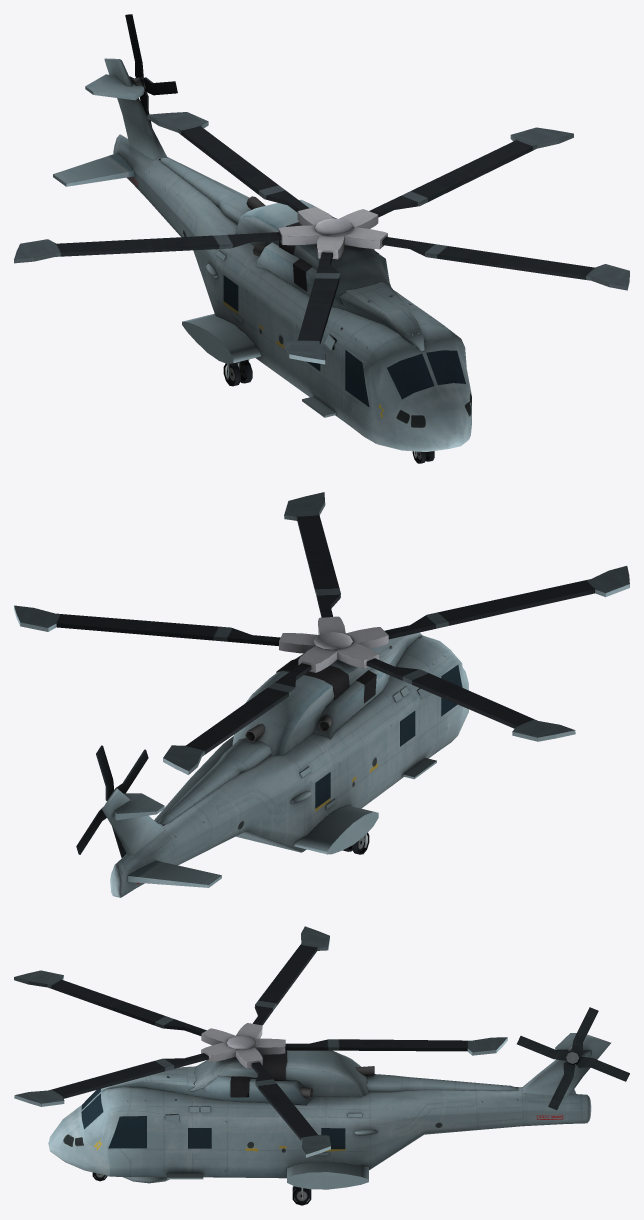
3 renders of one model, top to bottom at view 1: azimuth 30°, elevation 25°; view 2: azimuth 150°, elevation 25°; view 3: azimuth 270°, elevation 25°, orthographic. The views are drawn at different scales.
Parts seen in each view (by area): view 1: AW101, AW101_propellar, AW101_backrotor; view 2: AW101, AW101_propellar, AW101_backrotor; view 3: AW101, AW101_propellar, AW101_backrotor.
Part boxes in pixels (x1,y1,x2,y2): AW101: [53, 58, 471, 463]; AW101_propellar: [14, 112, 629, 364]; AW101_backrotor: [125, 14, 177, 126]; AW101: [102, 628, 468, 897]; AW101_propellar: [14, 492, 629, 774]; AW101_backrotor: [76, 745, 148, 857]; AW101: [48, 1033, 610, 1205]; AW101_propellar: [14, 926, 507, 1157]; AW101_backrotor: [517, 1007, 629, 1110].
Size of the model in its own units: 173 by 65.13 by 206.
